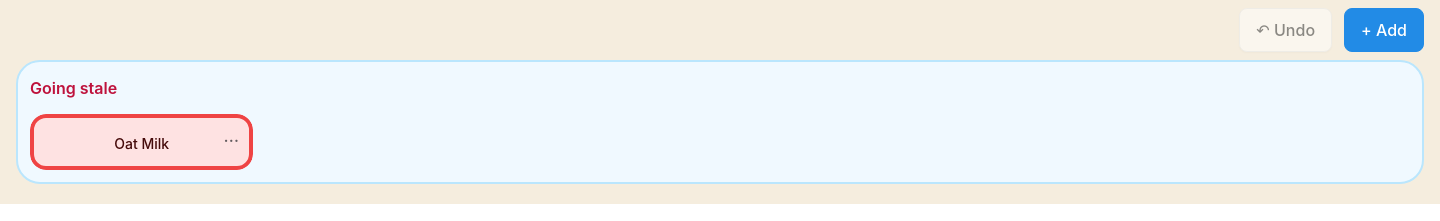
it: One tap on the tile › the header Undo then names the tap, which is the confirmation and the way back
Click the button with aria-label "Oat Milk, going stale" at (142, 142), box [30, 114, 253, 170]
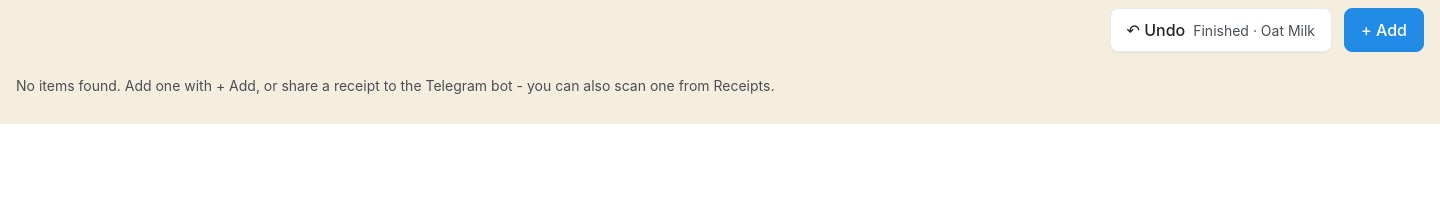
Now the button with aria-label "Undo Finished · Oat Milk" is enabled, box [1110, 8, 1332, 52]
